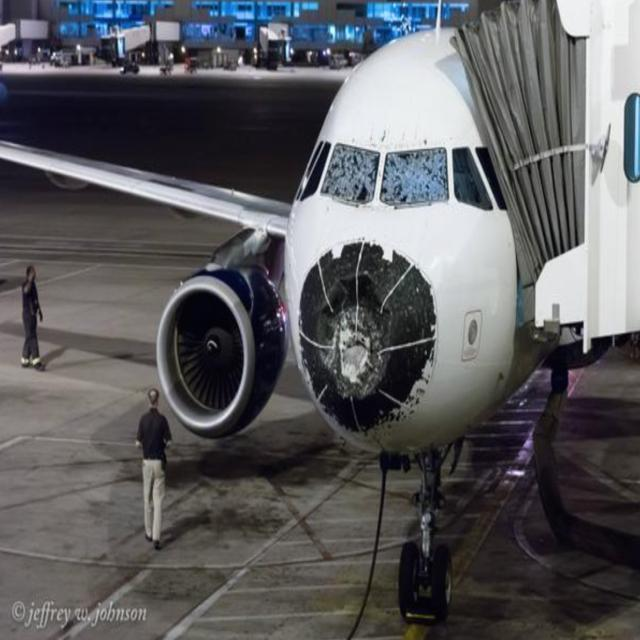Crack: (323, 146, 379, 202), (381, 151, 447, 198)
Dent: (300, 243, 443, 432), (318, 275, 391, 404)
